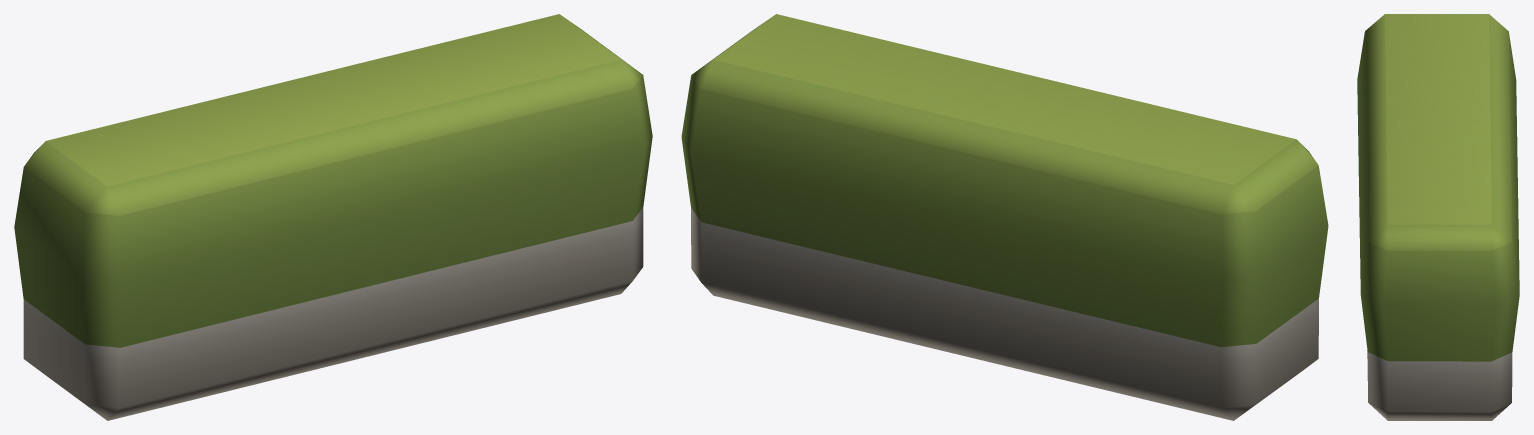
Rendered from hedge_rooftop_2x05.fbx.
The picture shows the model from 3 angles, left to right: view 1: azimuth 30°, elevation 25°; view 2: azimuth 150°, elevation 25°; view 3: azimuth 270°, elevation 25°; orthographic projection. The views are drawn at different scales.
Parts seen in each view (by area): view 1: hedge_rooftop_2x05; view 2: hedge_rooftop_2x05; view 3: hedge_rooftop_2x05.
Part boxes in pixels (x1=…): hedge_rooftop_2x05: x1=14, y1=14, x2=652, y2=420; hedge_rooftop_2x05: x1=681, y1=14, x2=1328, y2=420; hedge_rooftop_2x05: x1=1357, y1=14, x2=1519, y2=420.
Size of the model in its own units: 211 by 82.42 by 61.85.
